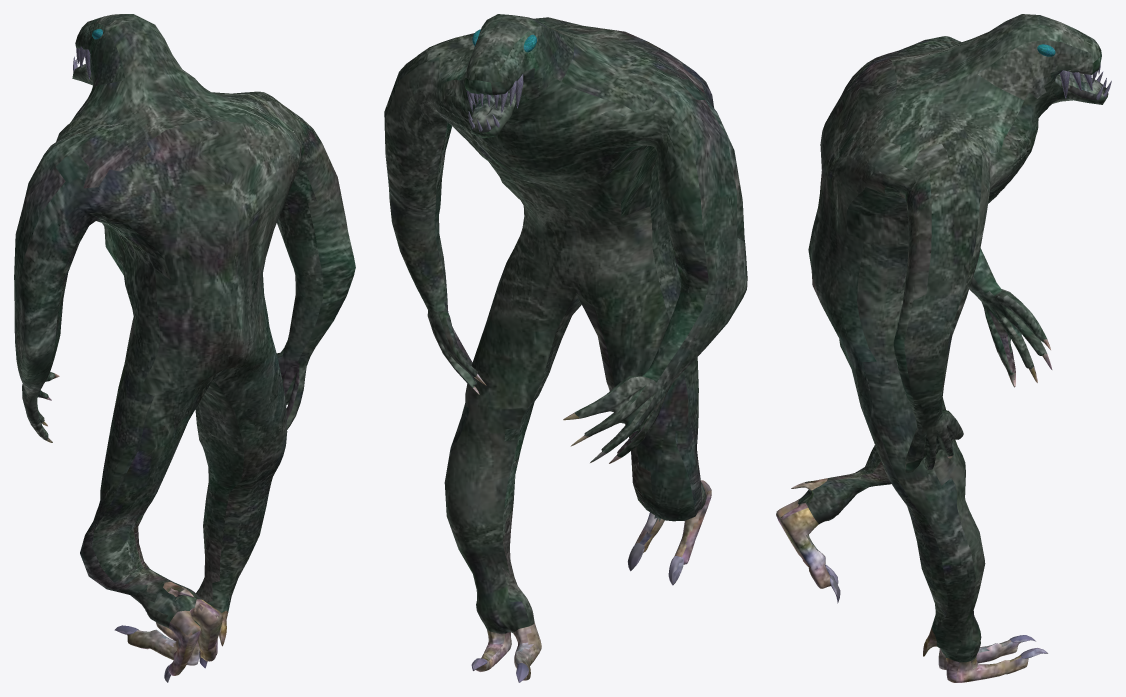
Rendered from Andar.0013.obj.
3 renders of one model, left to right at view 1: azimuth 30°, elevation 25°; view 2: azimuth 150°, elevation 25°; view 3: azimuth 270°, elevation 25°, orthographic. The views are drawn at different scales.
Parts seen in each view (by area): view 1: polySurface28; view 2: polySurface28; view 3: polySurface28.
Part boxes in pixels (<box>): polySurface28: <box>14,14,355,682</box>; polySurface28: <box>384,14,747,682</box>; polySurface28: <box>776,14,1111,682</box>.
Bounding box in the file's own units: 1.25 × 2.29 × 1.09.
Materials: 4 (4 with a texture image).
